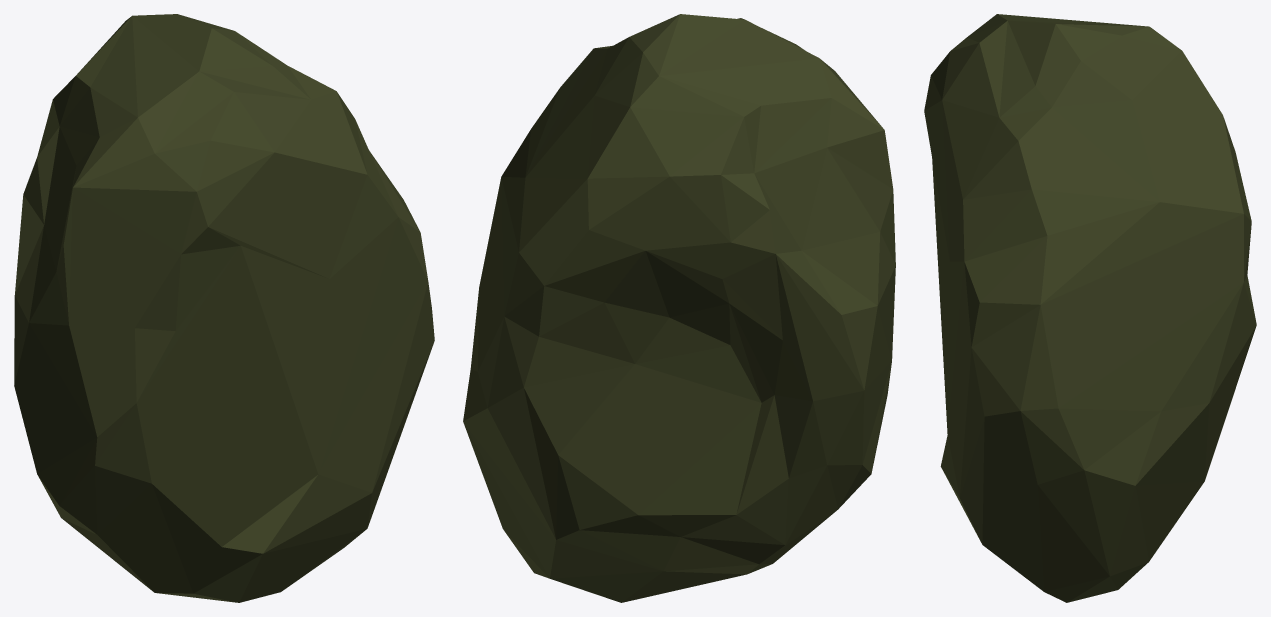
The model's file is SM_small_rock_31.fbx.
3 renders of one model, left to right at view 1: azimuth 30°, elevation 25°; view 2: azimuth 150°, elevation 25°; view 3: azimuth 270°, elevation 25°, orthographic. The views are drawn at different scales.
Parts seen in each view (by area): view 1: small_rock_31; view 2: small_rock_31; view 3: small_rock_31.
Boxes of the visible parts, <box> form: small_rock_31: <box>14,14,434,602</box>; small_rock_31: <box>463,14,895,602</box>; small_rock_31: <box>924,14,1256,602</box>.
Bounding box in the file's own units: 9.32 × 13.31 × 7.35.
